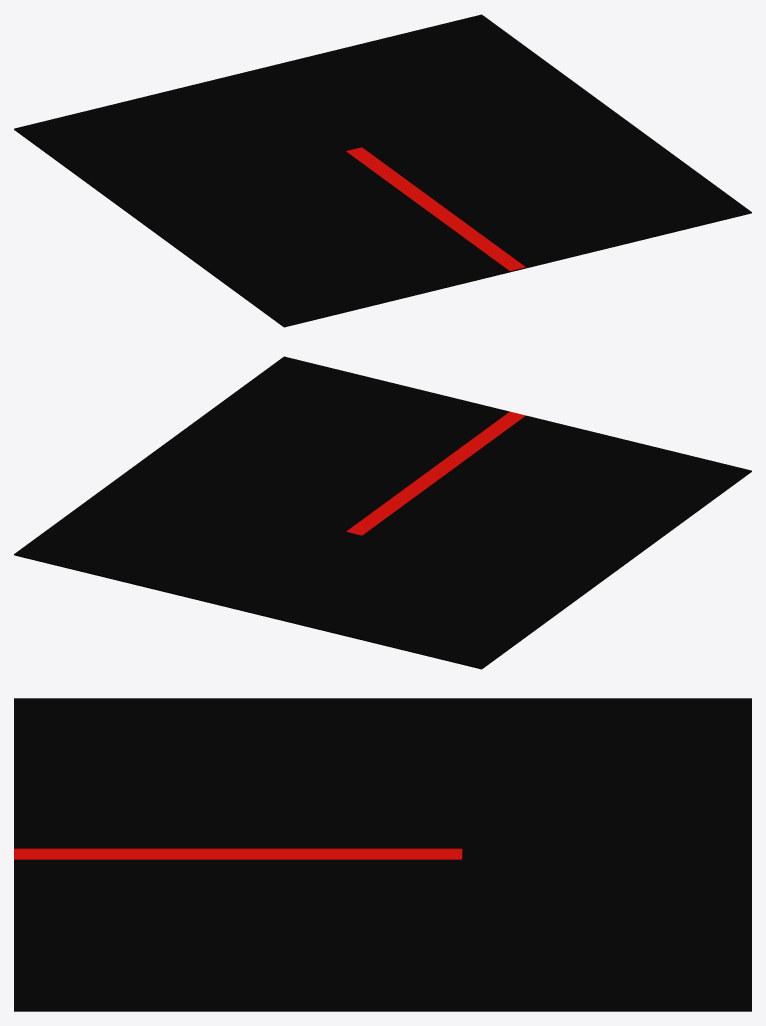
File: KnowledgePlace.fbx
3 views of the same model, one above another, from view 1: azimuth 30°, elevation 25°; view 2: azimuth 150°, elevation 25°; view 3: azimuth 270°, elevation 25° (orthographic). The views are drawn at different scales.
Visible parts, largest first — view 1: Cube; view 2: Cube; view 3: Cube.
Boxes of the visible parts, x1,y1,x2,y2 form: Cube: [14, 14, 751, 327]; Cube: [14, 356, 751, 669]; Cube: [14, 698, 751, 1011].
Size of the model in its own units: 13117 by 31.59 by 13117.
